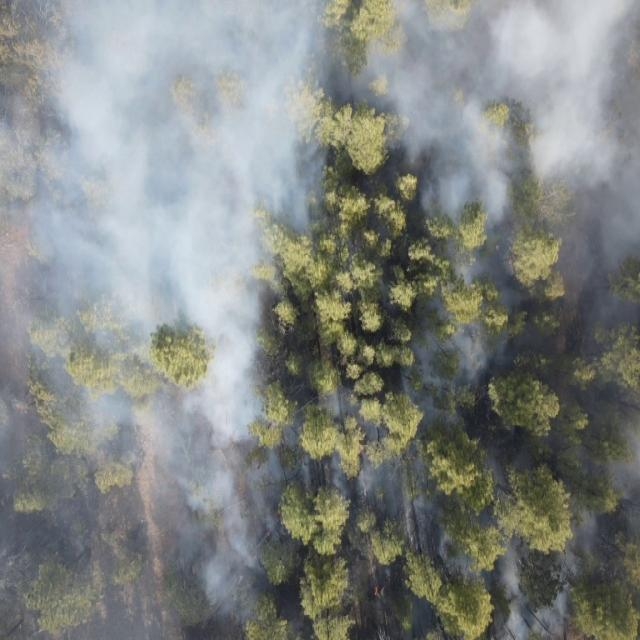fire: (373, 584, 380, 600)
smoke: (0, 0, 276, 640), (401, 239, 640, 640), (276, 0, 640, 239), (276, 388, 402, 516)
